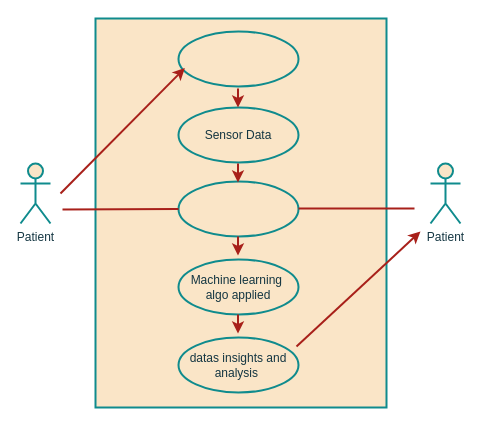
This 481x425 diagram has some shape labels left out. Here are the shapes that lost their labels. From the top down, the box of each, then its label:
(177, 30, 299, 87): Smart Sleep Hardware
(177, 180, 299, 237): Fetching data to website
